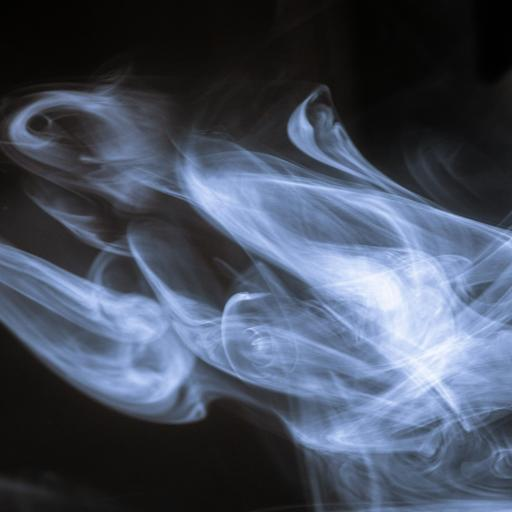smoke: (11, 62, 512, 511)
